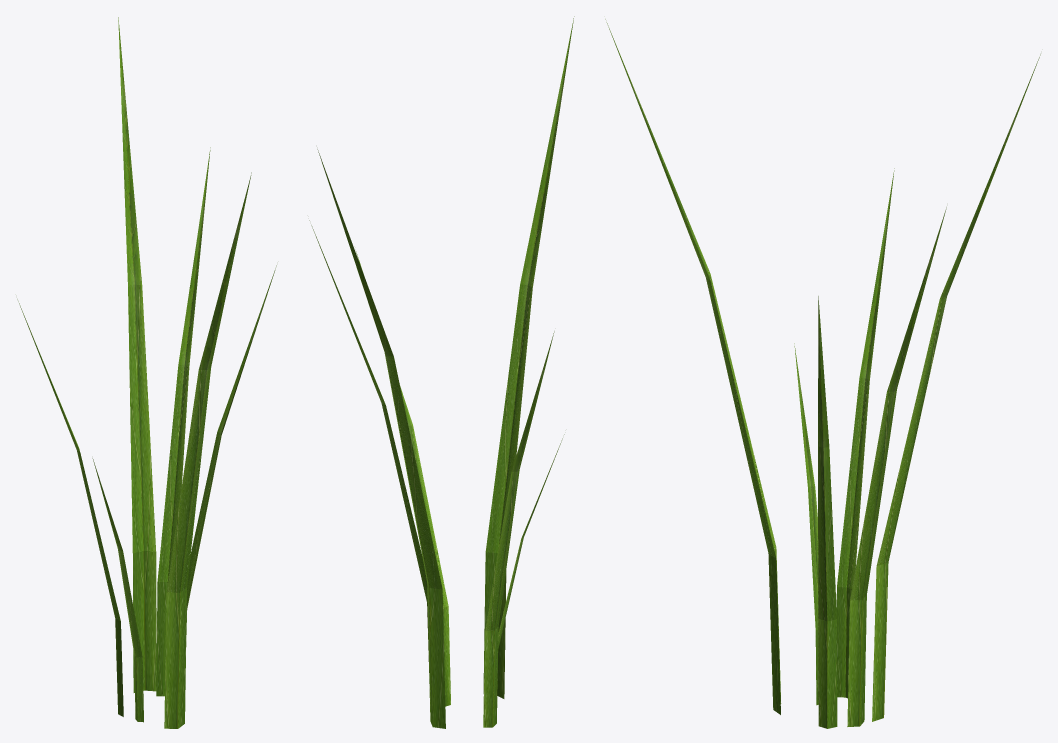
File: grass.glb
3 renders of one model, left to right at view 1: azimuth 30°, elevation 25°; view 2: azimuth 150°, elevation 25°; view 3: azimuth 270°, elevation 25°, orthographic. The views are drawn at different scales.
Visible parts, largest first — view 1: Cube.005; view 2: Cube.005; view 3: Cube.005.
Part boxes in pixels (box(x1,y1,x2,y2)): Cube.005: box(17, 17, 276, 728); Cube.005: box(309, 16, 574, 728); Cube.005: box(605, 19, 1040, 728).
Bounding box in the file's own units: 2.2 × 5.63 × 3.21.
Materials: 1 (1 with a texture image).
